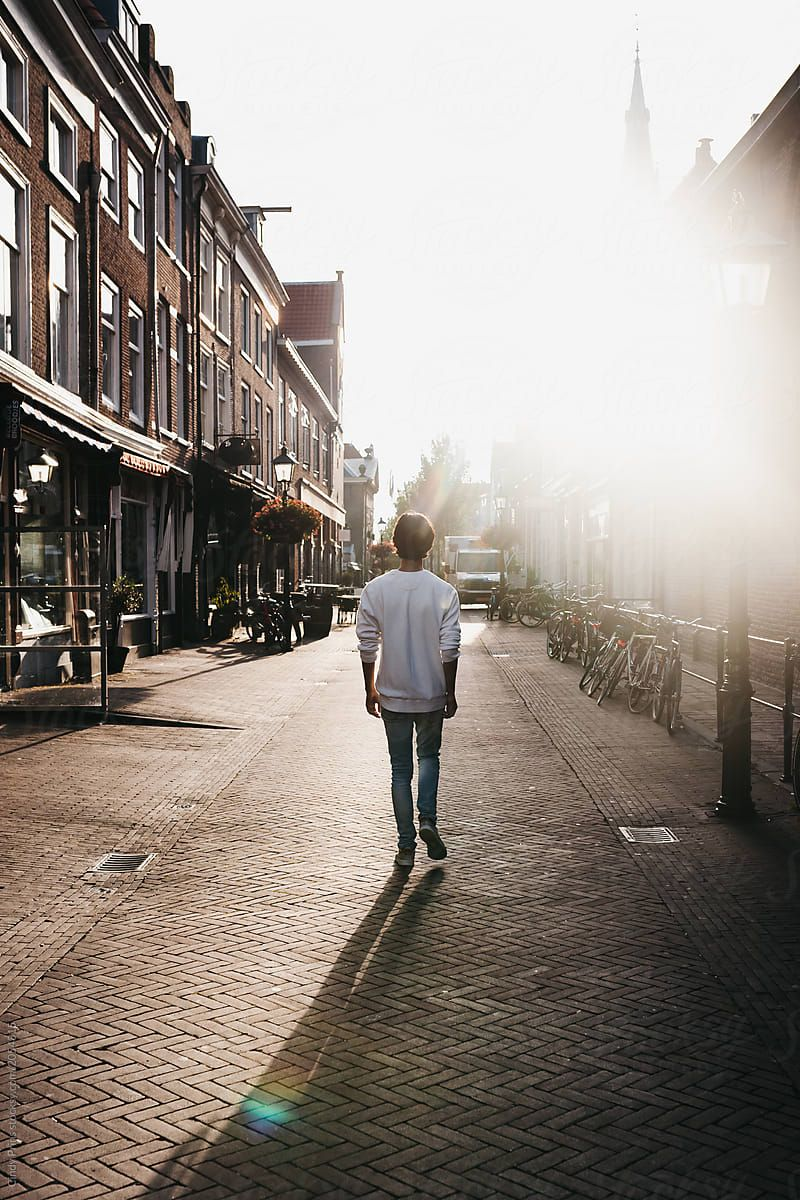person: (356, 510, 463, 867)
